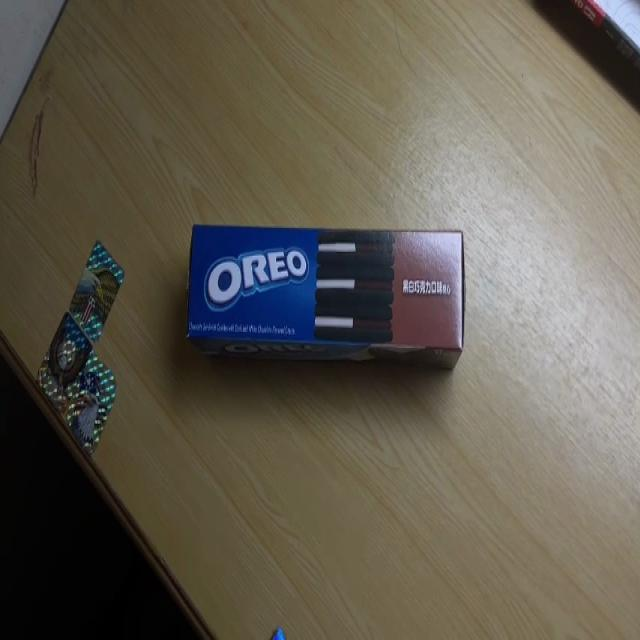Oreo: (185, 221, 466, 367)
